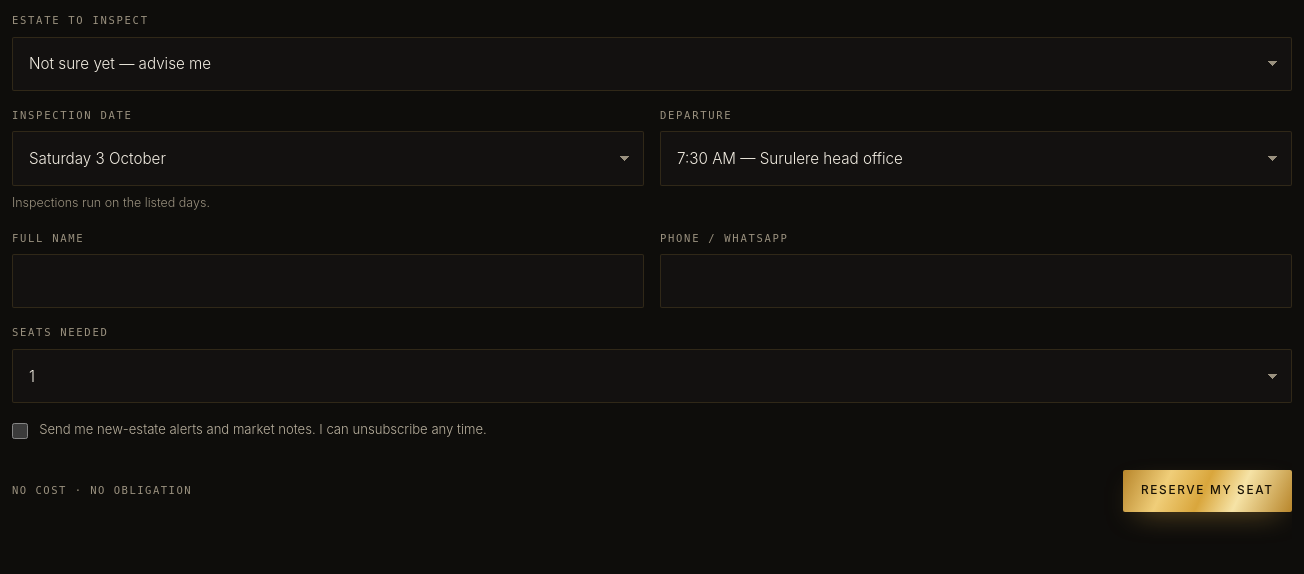
Test case: BookingForm (FR-LEAD-008, TC-LEAD-015) › requires name and a valid phone before submitting
Click the button "Reserve my seat". click: (1207, 491)
box: [1123,470,1292,512]
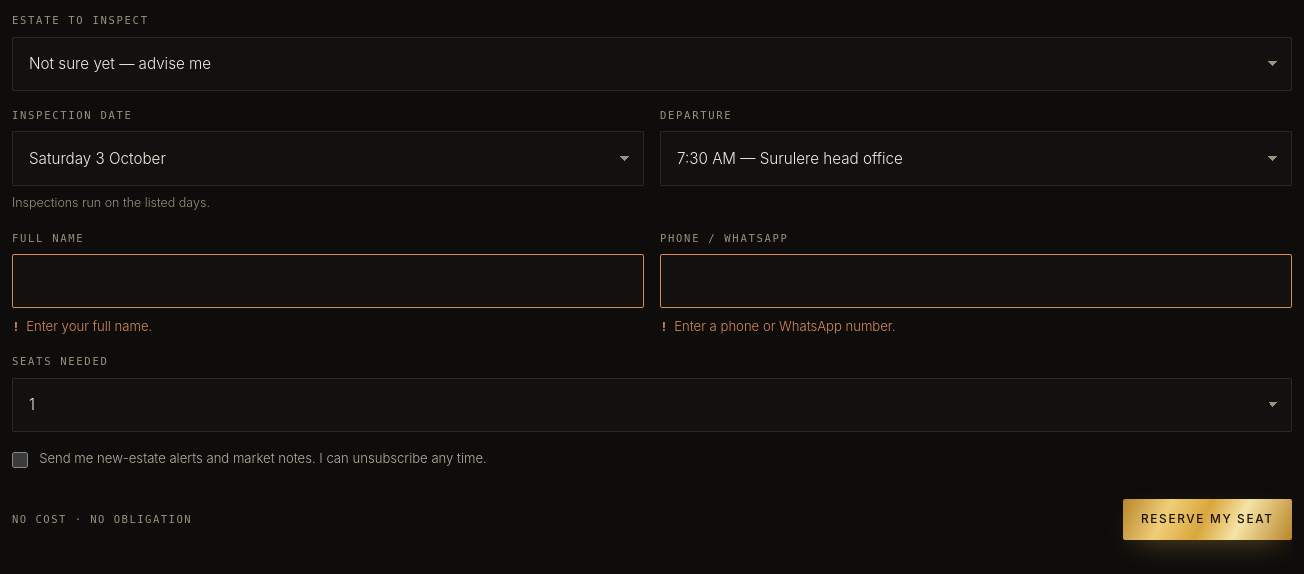
Expected: the text "Enter your full name." is shown, [26,318,152,334]
